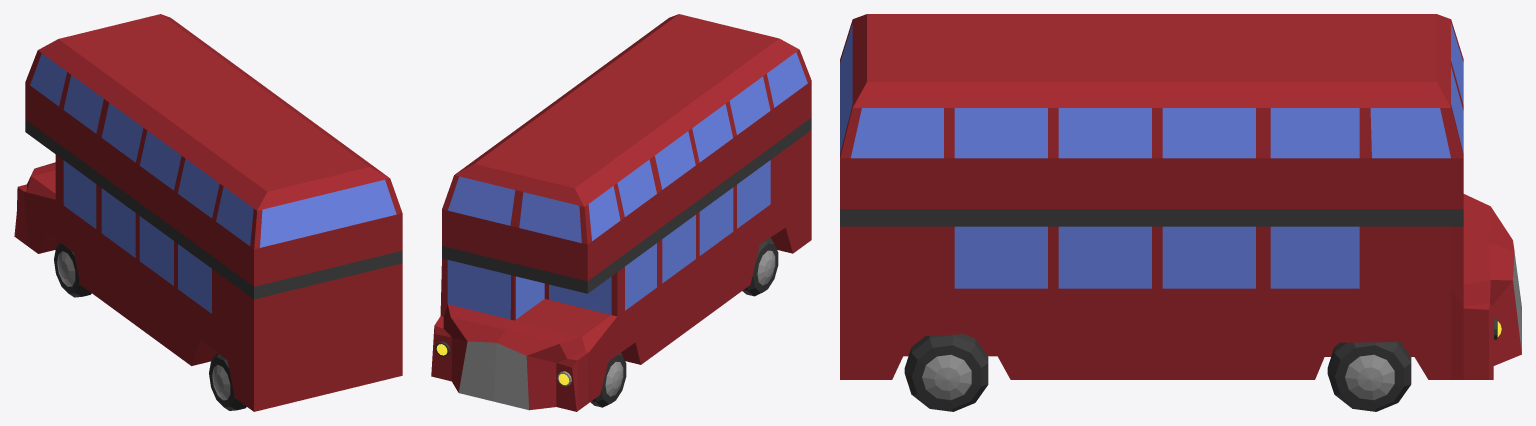
Rendered from london_bus.glb.
3 views of the same model, side by side, from view 1: azimuth 30°, elevation 25°; view 2: azimuth 150°, elevation 25°; view 3: azimuth 270°, elevation 25° (orthographic). The views are drawn at different scales.
Visible parts, largest first — view 1: Cube, Sphere.003, Sphere.004; view 2: Cube, Sphere.003, Sphere.004; view 3: Cube, Sphere.002, Sphere.005.
Boxes of the visible parts, left/top/right/bottom form: Cube: left=14, top=14, right=402, bottom=411; Sphere.003: left=209, top=353, right=246, bottom=410; Sphere.004: left=54, top=242, right=91, bottom=297; Cube: left=431, top=14, right=811, bottom=411; Sphere.003: left=742, top=238, right=778, bottom=296; Sphere.004: left=590, top=353, right=626, bottom=407; Cube: left=840, top=14, right=1521, bottom=379; Sphere.002: left=904, top=334, right=988, bottom=411; Sphere.005: left=1327, top=342, right=1411, bottom=411.
Size of the model in its own units: 3.06 by 4.57 by 8.75.
